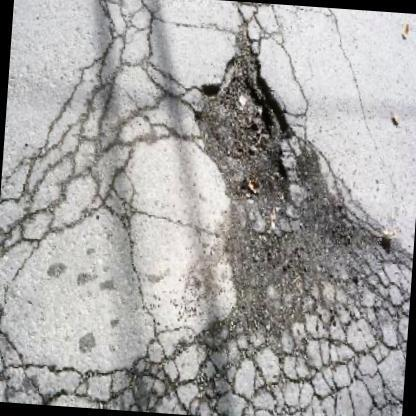pothole: (192, 18, 386, 346)
